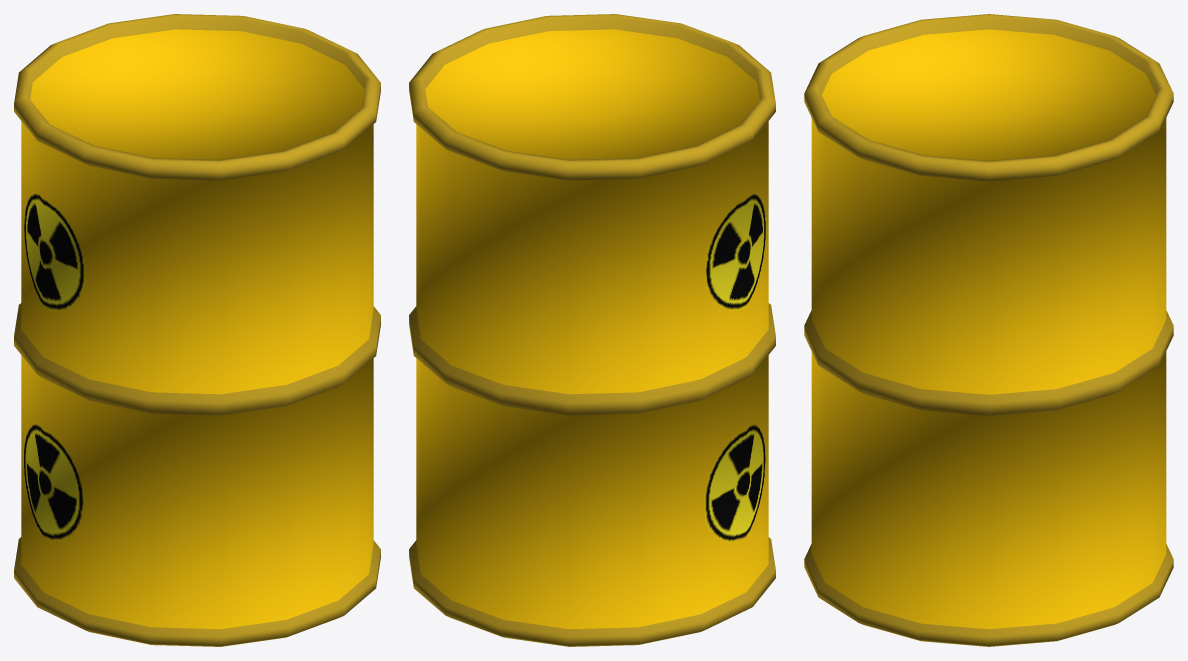
File: barrel.fbx
The picture shows the model from 3 angles, left to right: view 1: azimuth 30°, elevation 25°; view 2: azimuth 150°, elevation 25°; view 3: azimuth 270°, elevation 25°; orthographic projection.
Parts seen in each view (by area): view 1: barrel; view 2: barrel; view 3: barrel.
Boxes of the visible parts, box(x1,y1,x2,y2) form: barrel: box(14, 14, 380, 646); barrel: box(409, 14, 775, 646); barrel: box(804, 14, 1173, 646).
Size of the model in its own units: 2.24 by 3.23 by 2.24.
Materials: 1 (1 with a texture image).
